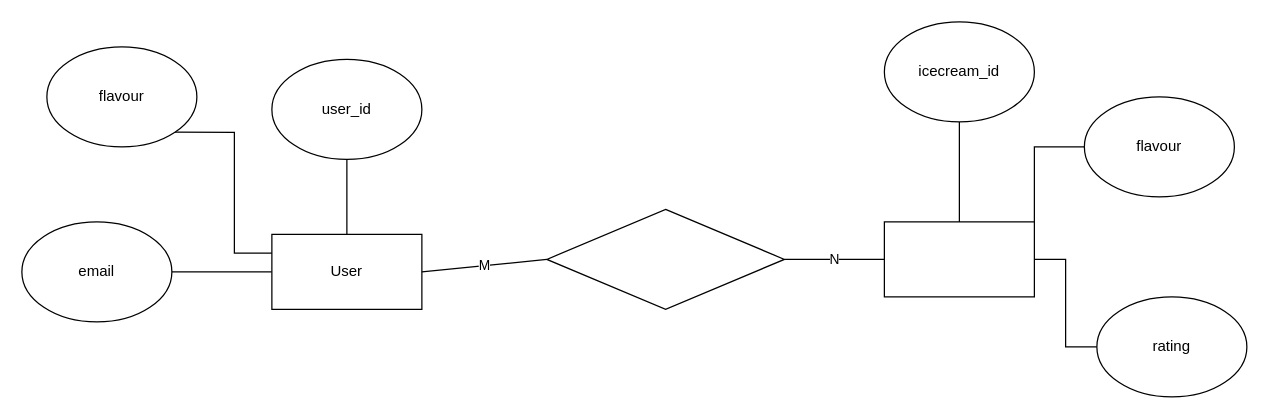
Image size: 1269x419. Some labels were removed from this diagram. The shapes that lost their labels are listed below. From the top down, each one's centre as x and y in pixels, then its label:
At (x=665, y=258): "votes".
At (x=958, y=259): "icecreams".
